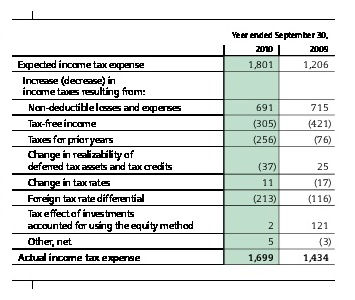table: (0, 0, 355, 300)
